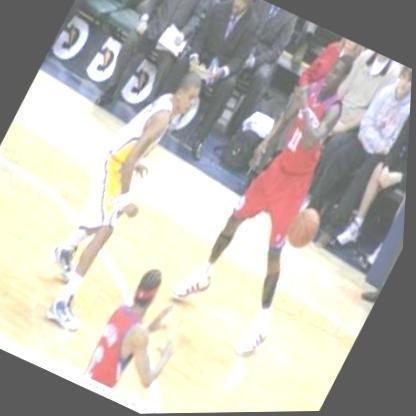basketball: (278, 199, 338, 259)
